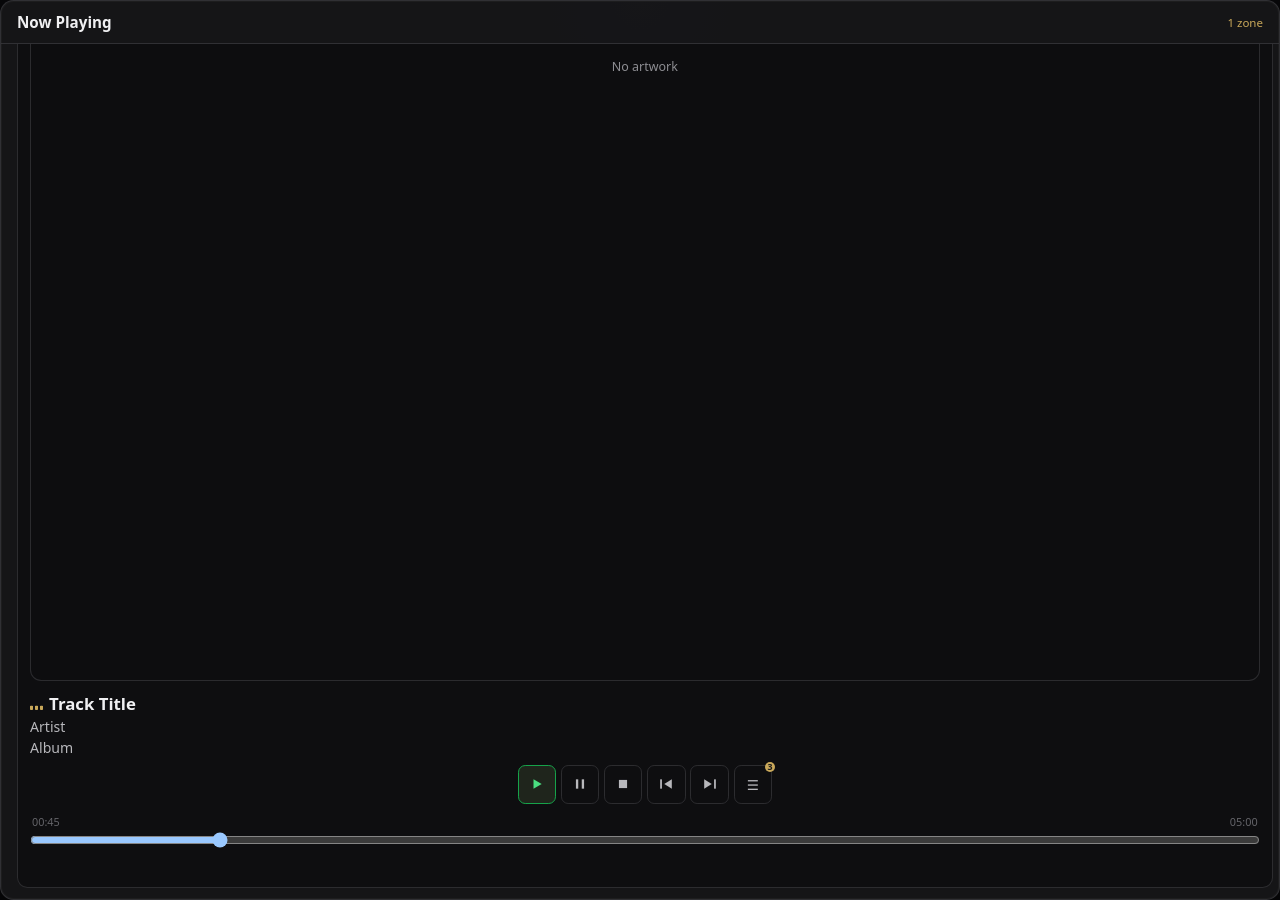
Test: ZoneStatusPanel — queue modal › clicking the queue button opens a modal listing tracks
(page scrolled)
Click the button named "Queue" at (753, 784), box [734,765,772,804]
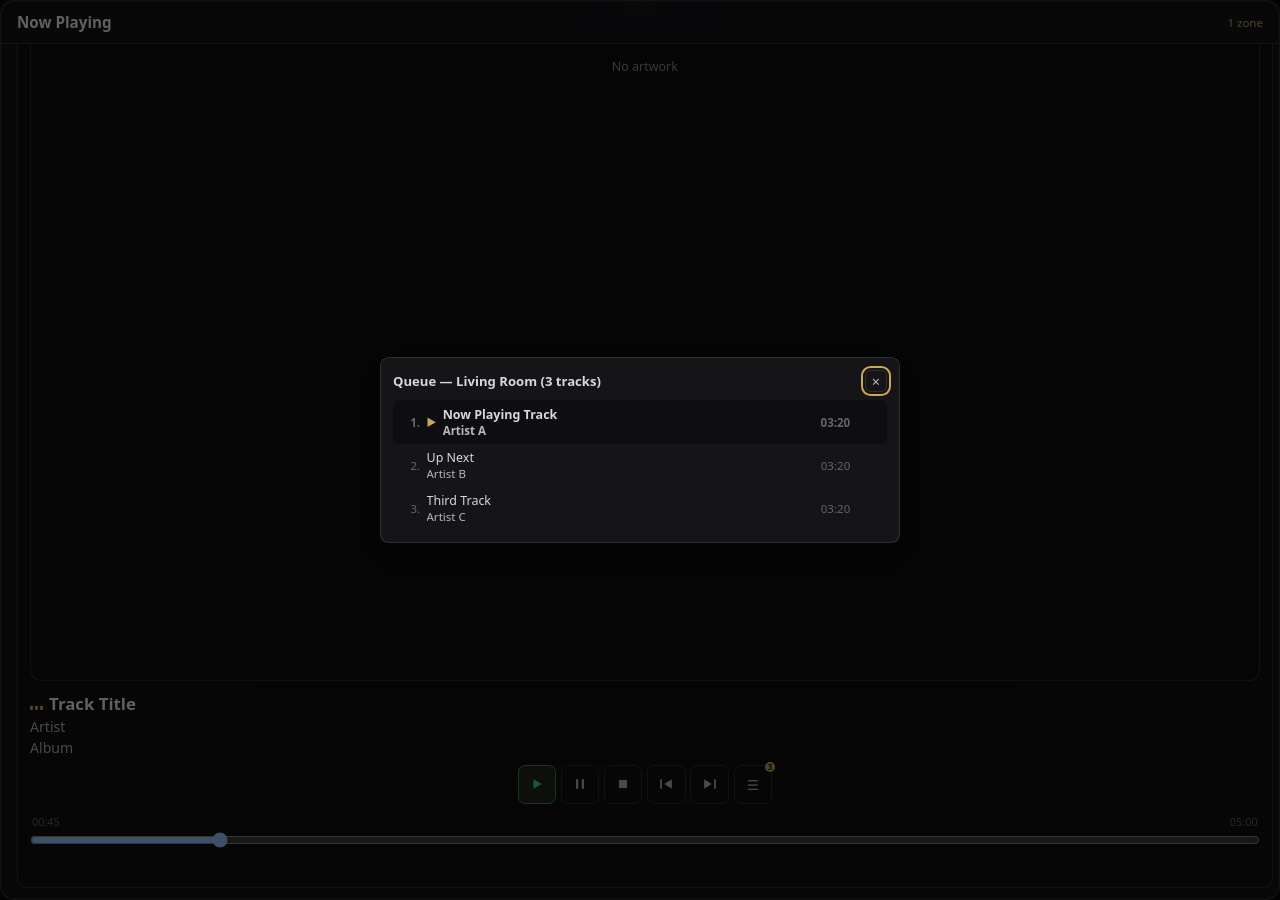
Check: the text "Queue — Living Room (3 tracks)" is shown, box [393,372,601,390]
Check: the text "Now Playing Track" is shown, box [443,406,557,423]
Check: the text "Up Next" is shown, box [426,449,474,466]
